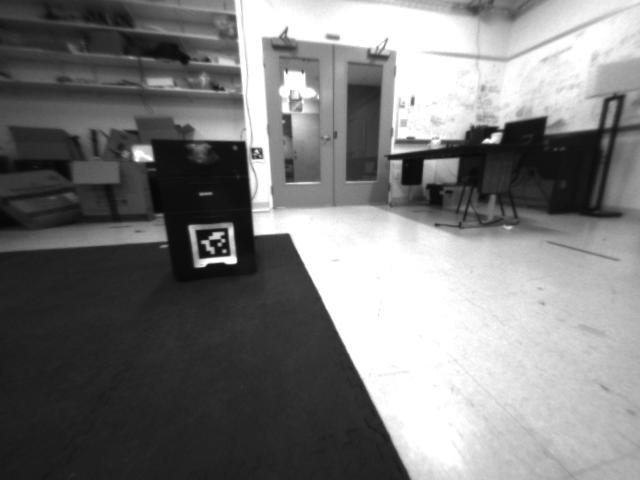door_handle: (317, 133, 333, 145)
drawer: (179, 139, 219, 169)
